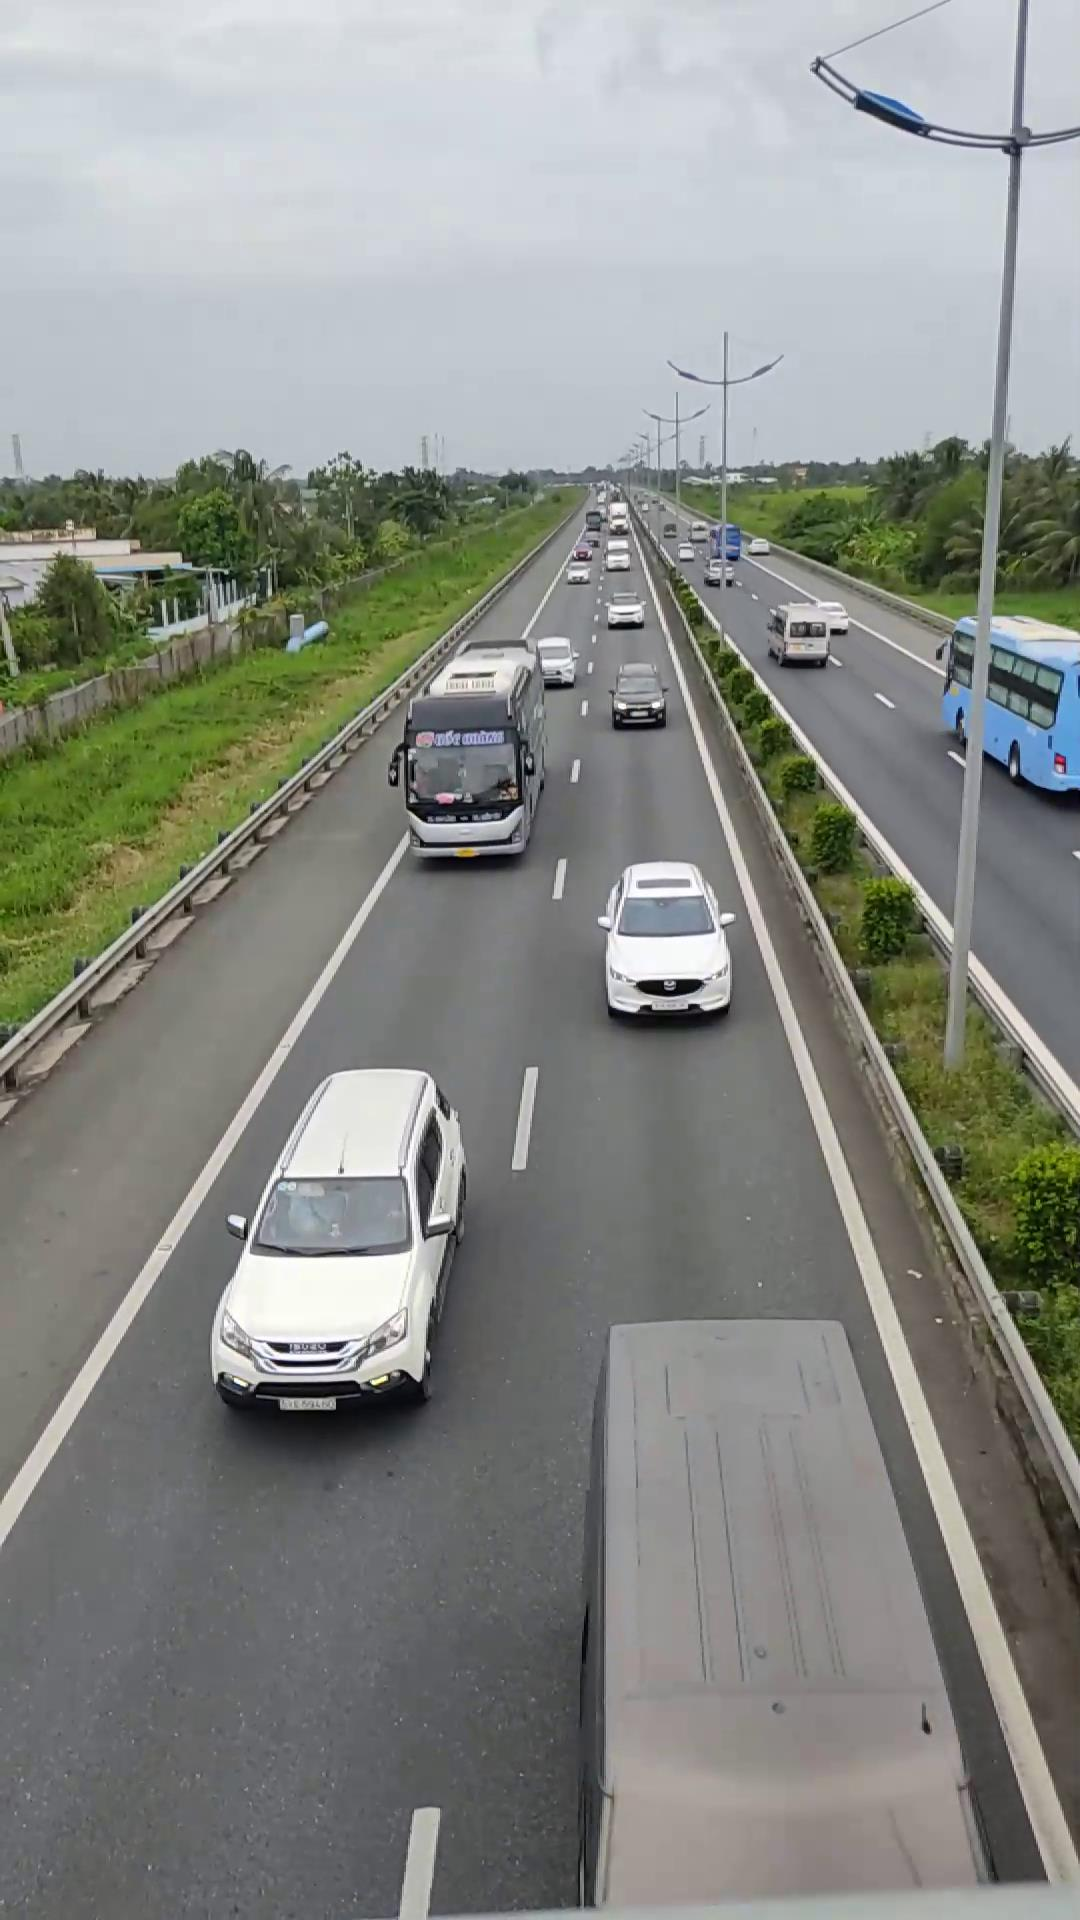bus: (395, 641, 546, 861)
car: (208, 1064, 469, 1414), (596, 859, 734, 1021), (606, 662, 670, 726)
